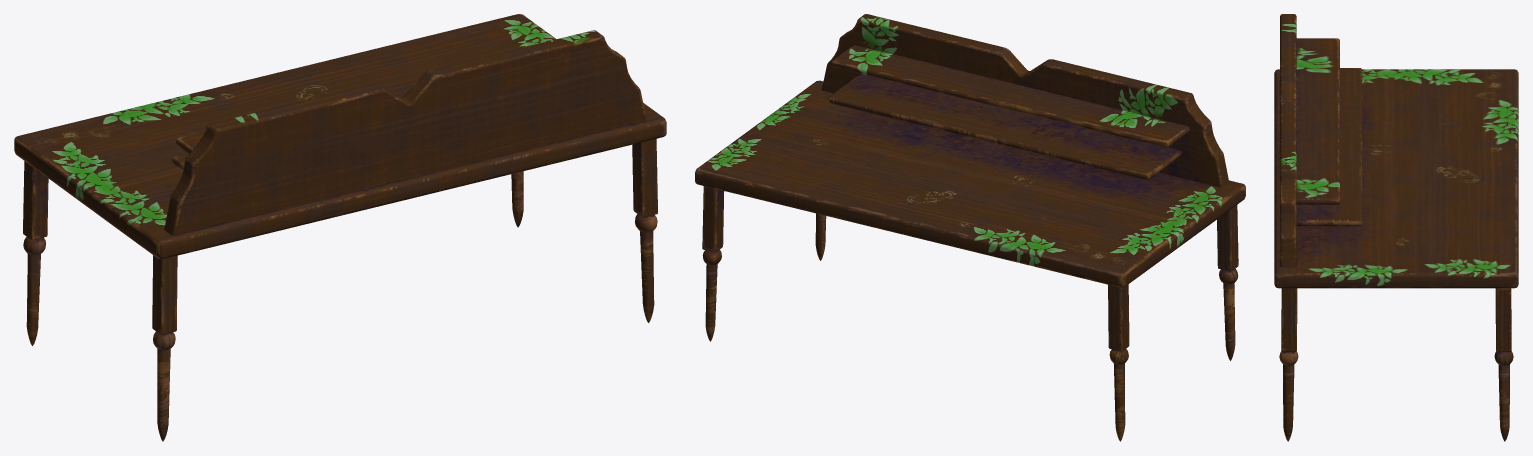
Rendered from WorkBenchTable.fbx.
3 views of the same model, side by side, from view 1: azimuth 30°, elevation 25°; view 2: azimuth 150°, elevation 25°; view 3: azimuth 270°, elevation 25° (orthographic). The views are drawn at different scales.
Parts seen in each view (by area): view 1: WokbenchTable; view 2: WokbenchTable; view 3: WokbenchTable.
Part boxes in pixels (left/top/right/bottom): WokbenchTable: left=14, top=14, right=666, bottom=441; WokbenchTable: left=695, top=14, right=1245, bottom=441; WokbenchTable: left=1274, top=14, right=1518, bottom=441.
Bounding box in the file's own units: 171 × 85.31 × 96.94.
